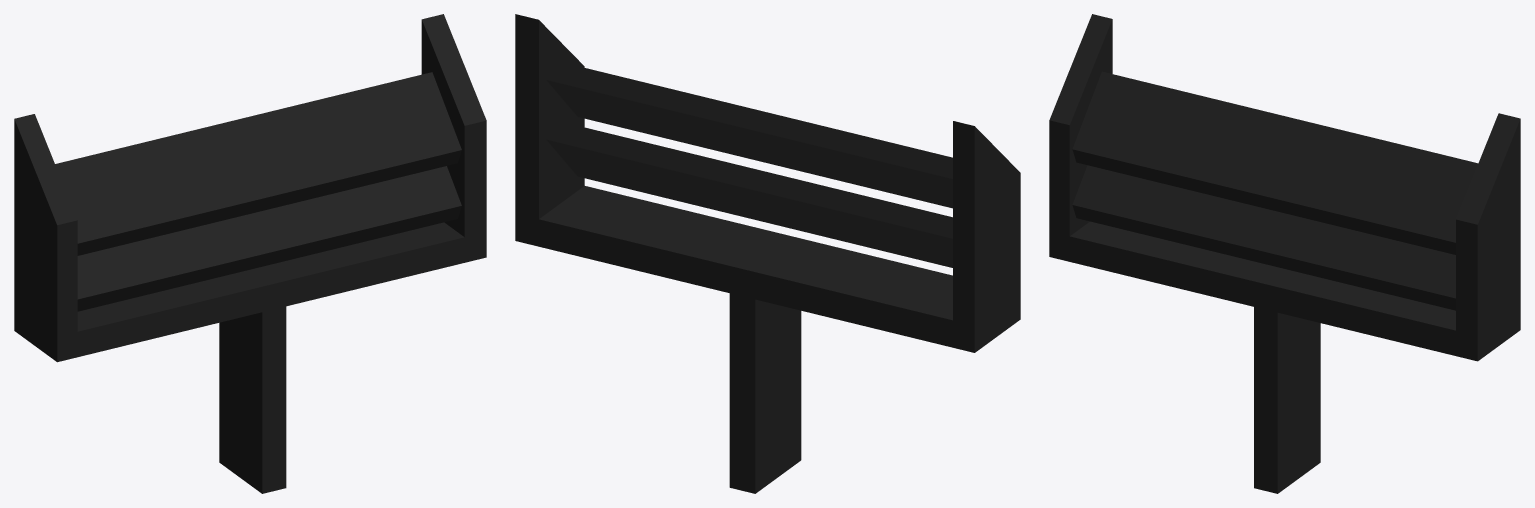
File: spoiler4.glb
3 renders of one model, left to right at view 1: azimuth 30°, elevation 25°; view 2: azimuth 150°, elevation 25°; view 3: azimuth 330°, elevation 25°, orthographic. The views are drawn at different scales.
Parts seen in each view (by area): view 1: spoiler4; view 2: spoiler4; view 3: spoiler4.
Part boxes in pixels (<box>): spoiler4: <box>14,14,486,493</box>; spoiler4: <box>515,14,1020,493</box>; spoiler4: <box>1049,14,1520,493</box>.
Bounding box in the file's own units: 1.46 × 1.28 × 0.2531.
Materials: 1 (1 with a texture image).
